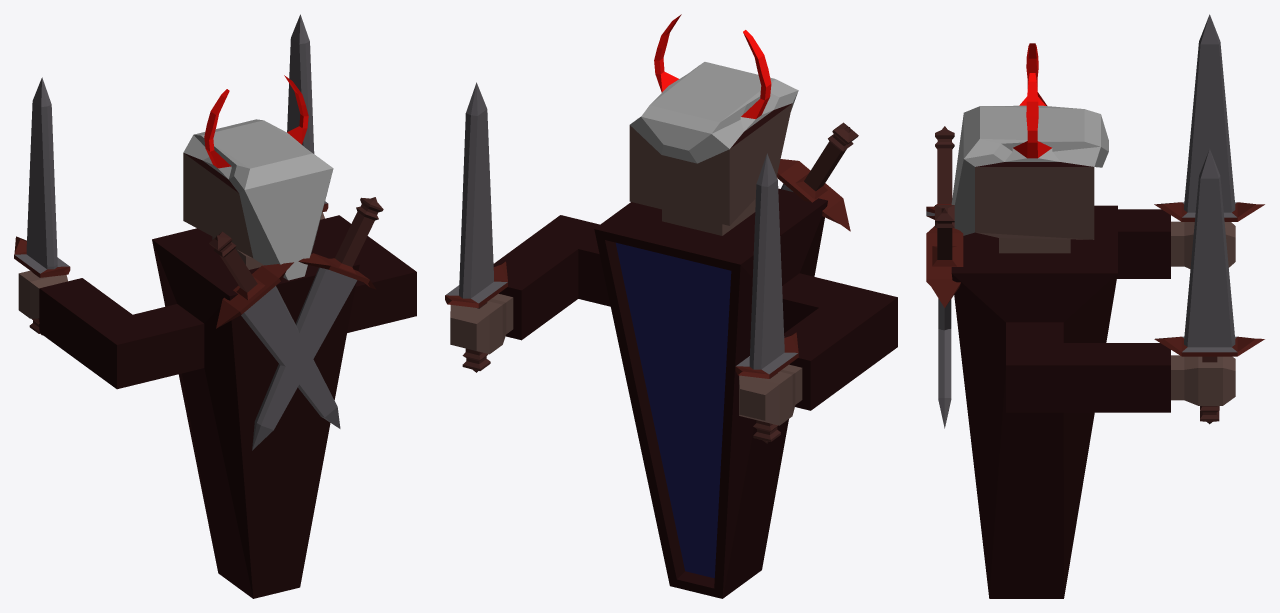
The model's file is Enemy.fbx.
3 renders of one model, left to right at view 1: azimuth 30°, elevation 25°; view 2: azimuth 150°, elevation 25°; view 3: azimuth 270°, elevation 25°, orthographic. The views are drawn at different scales.
Parts seen in each view (by area): view 1: Enemy; view 2: Enemy; view 3: Enemy.
Part boxes in pixels (x1,y1,x2,y2): Enemy: (14,14,416,598); Enemy: (445,14,897,598); Enemy: (926,14,1264,598).
Size of the model in its own units: 280 by 442 by 257.
